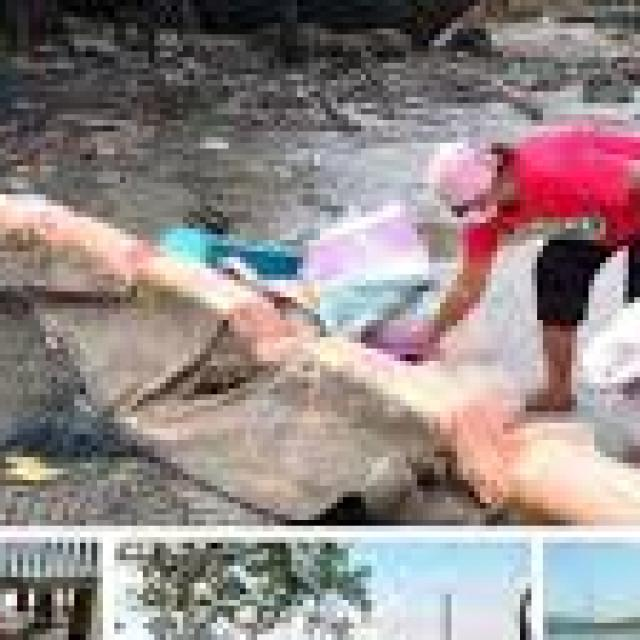-: (0, 23, 617, 126)
